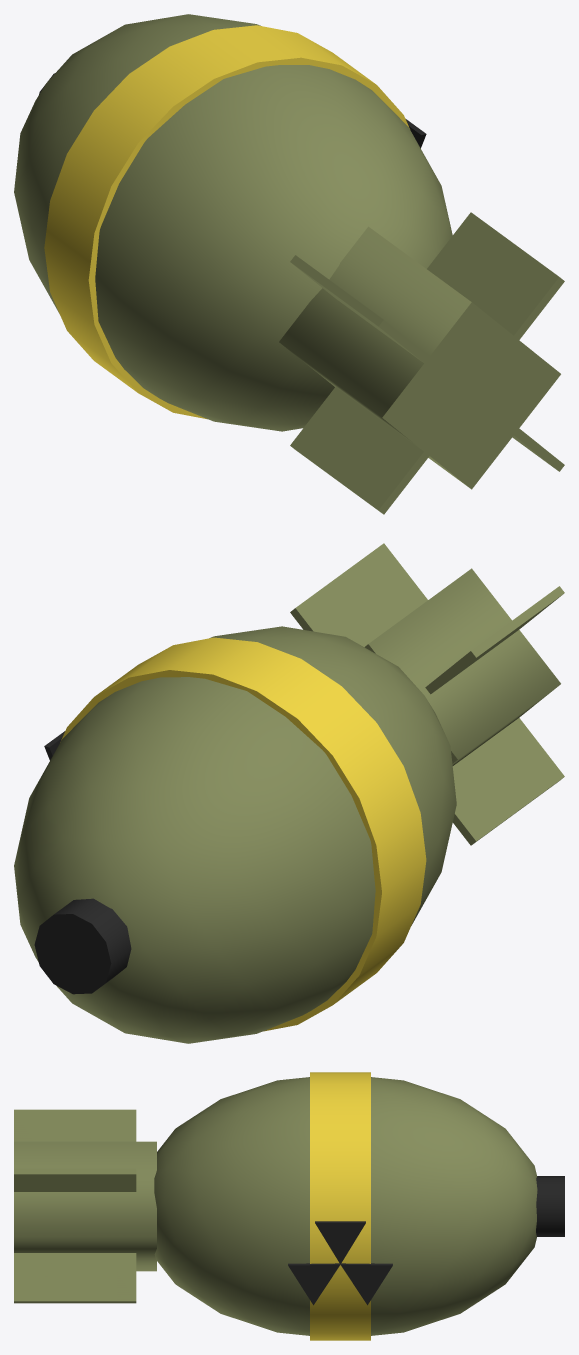
Rendered from nuke.glb.
The picture shows the model from 3 angles, top to bottom: view 1: azimuth 30°, elevation 25°; view 2: azimuth 150°, elevation 25°; view 3: azimuth 270°, elevation 25°; orthographic projection. The views are drawn at different scales.
Parts seen in each view (by area): view 1: Nuke_Bomb; view 2: Nuke_Bomb; view 3: Nuke_Bomb.
Boxes of the visible parts, box(x1,y1,x2,y2) form: Nuke_Bomb: box(14, 14, 564, 514); Nuke_Bomb: box(14, 543, 564, 1043); Nuke_Bomb: box(14, 1072, 564, 1340).
Size of the model in its own units: 0.267 by 0.264 by 0.54.
